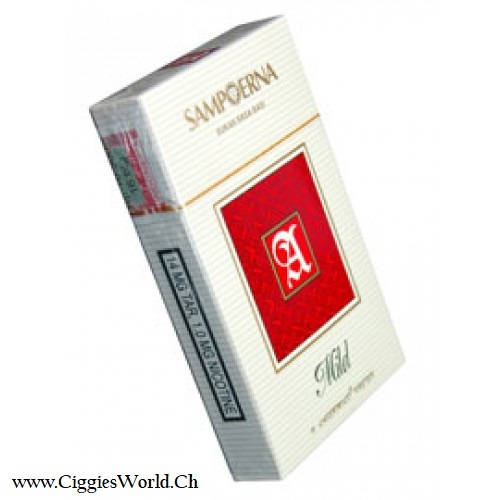A Mild: (72, 17, 420, 464)
